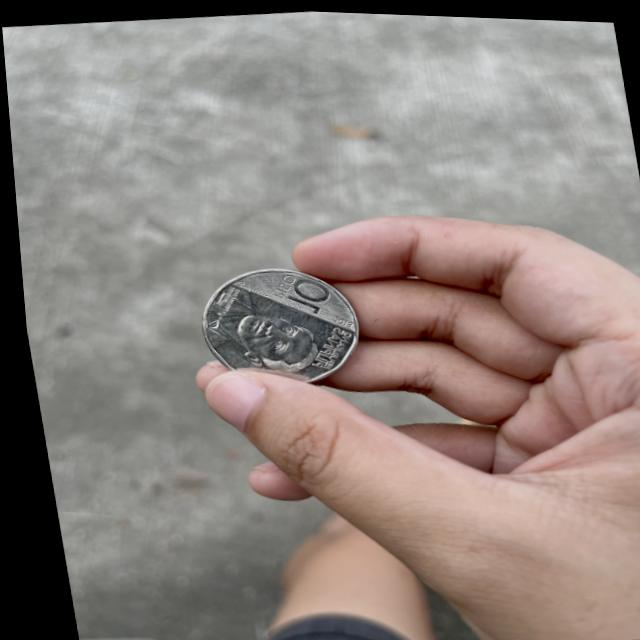10_New_Front: (266, 268, 331, 313)
